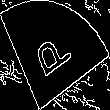P_SW: (32, 26, 78, 84)
